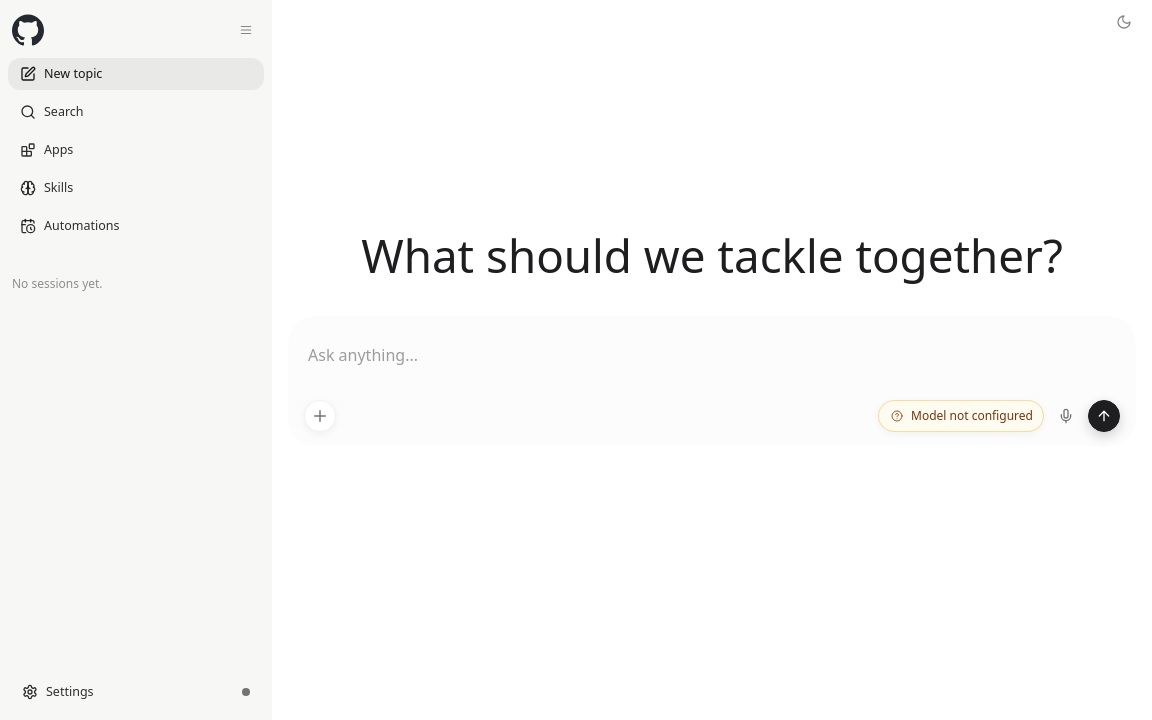
Test case: App layout › keeps long automation details expandable without nested scrolling
The width and height of the screenshot is (1152, 720).
Click the button "Automations".
click(136, 226)  # box [8,210,264,242]
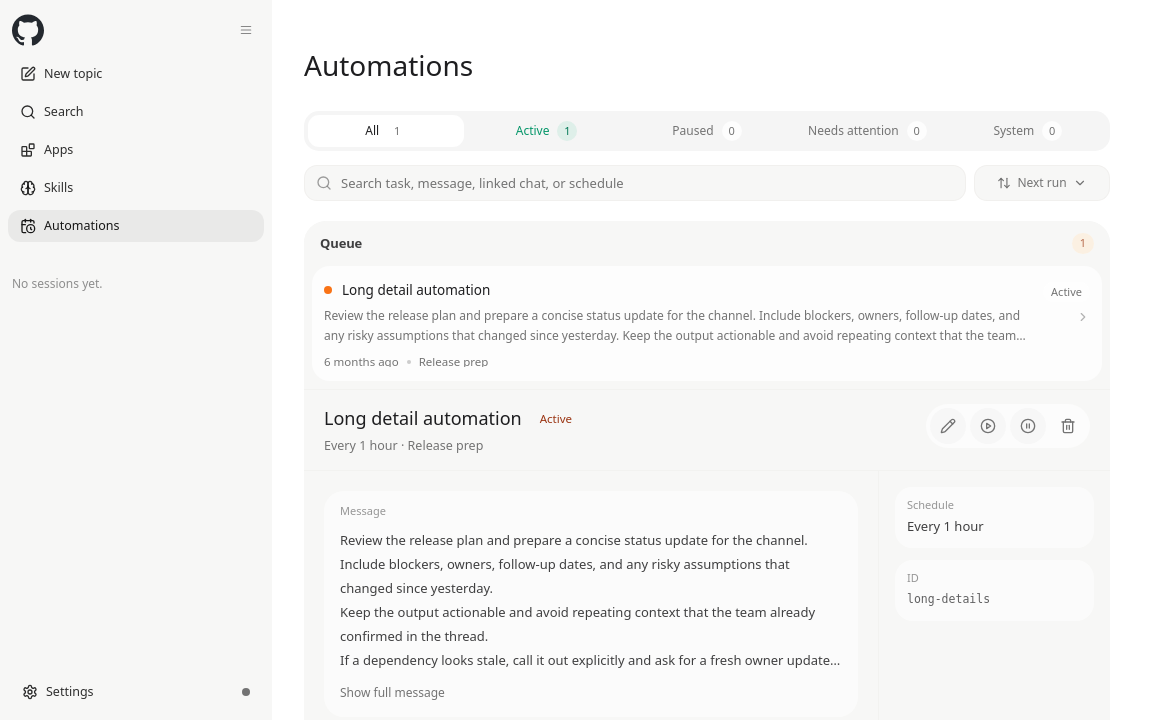
Expected: the element "Long detail automation" is shown, [304,390,1110,719]
Click the button "Show full message".
click(392, 693)  # box [340,684,445,702]
(page scrolled)
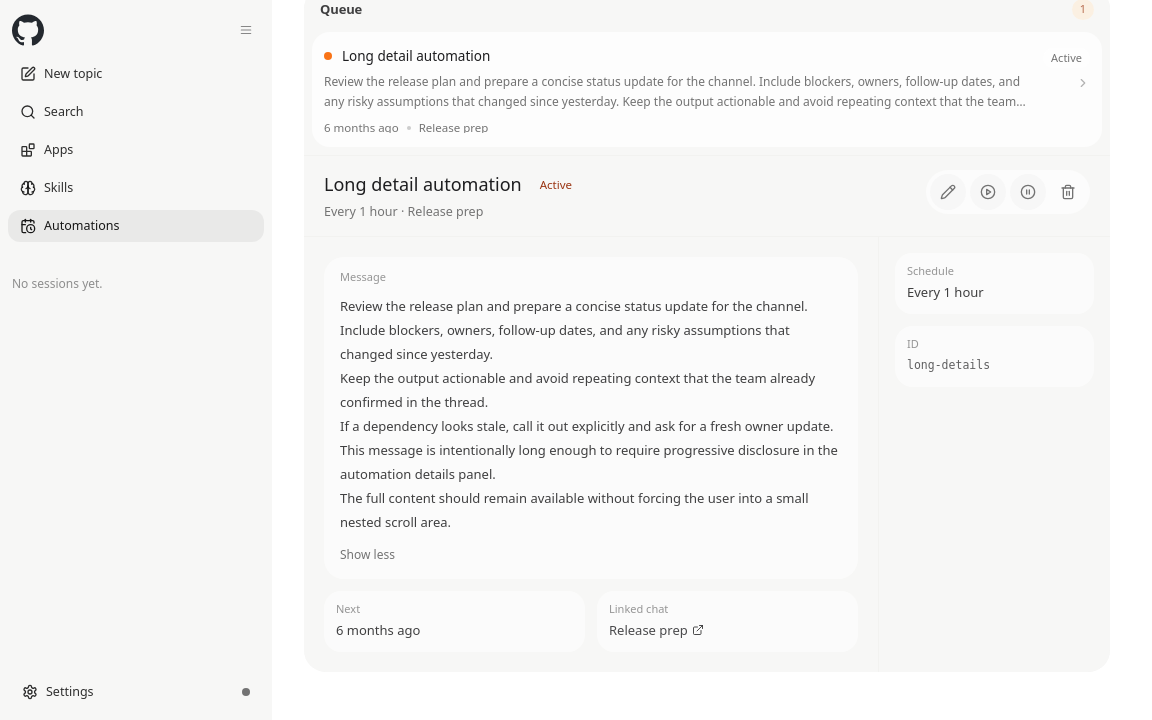
Expected: the button "Show less" is shown, [340,546,395,564]
